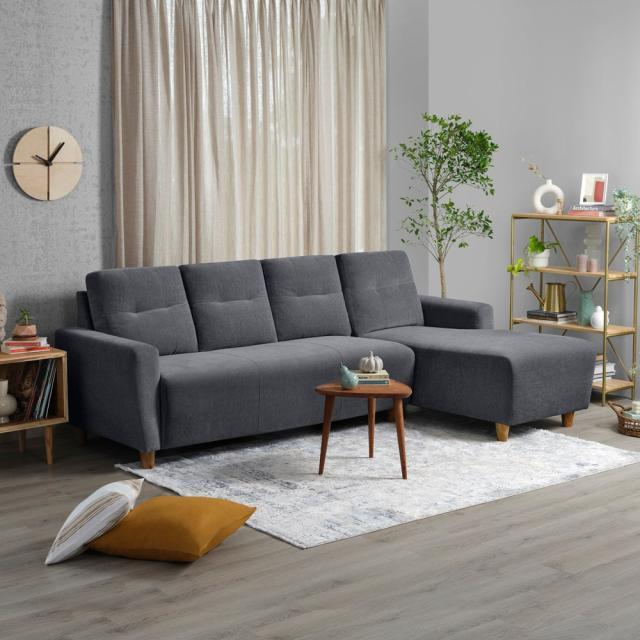sofa: (54, 248, 596, 469)
stool: (301, 343, 422, 475)
